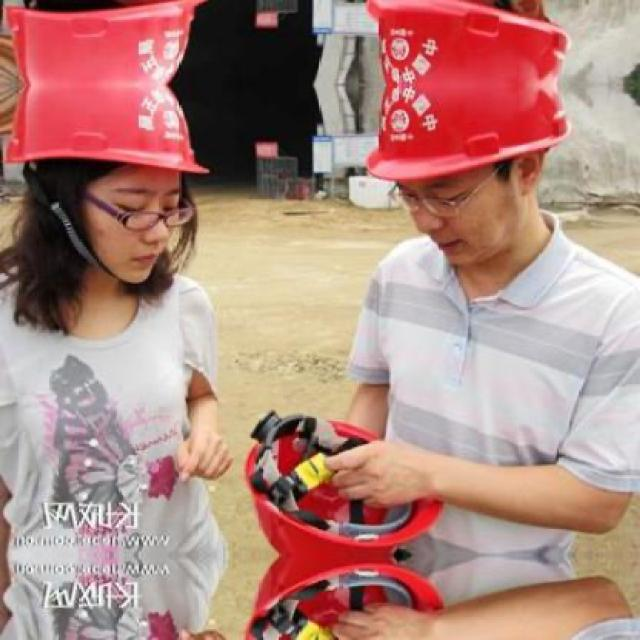con casco: (0, 83, 192, 279), (374, 78, 564, 275)
